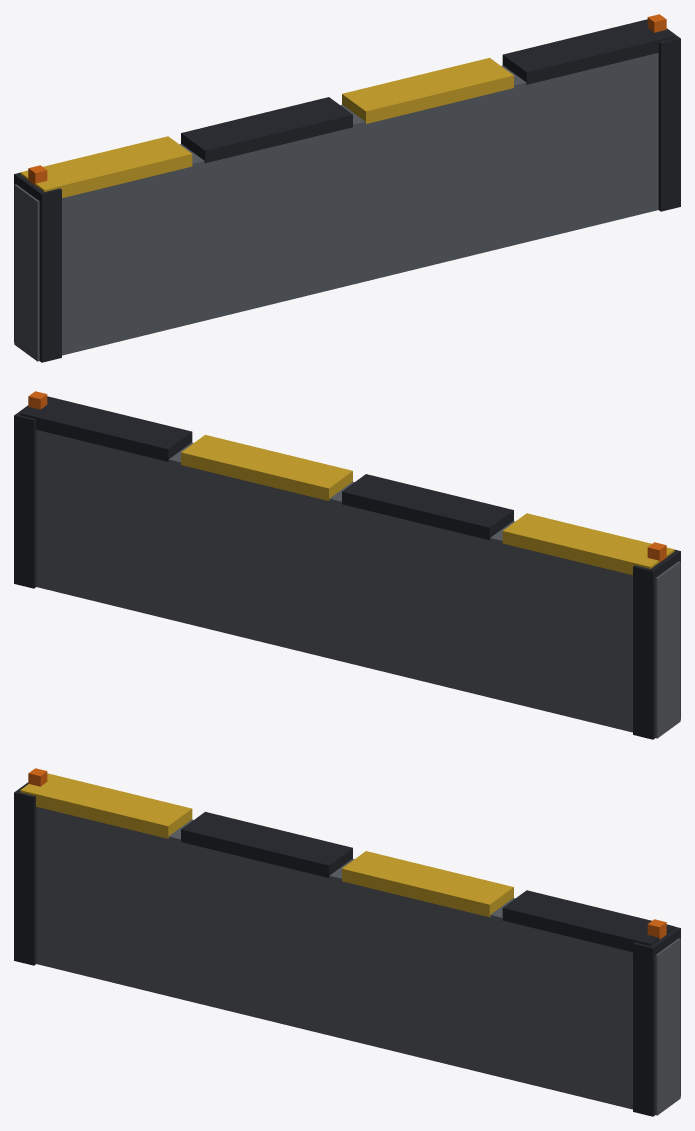
The model's file is mobile-low.glb.
3 views of the same model, one above another, from view 1: azimuth 30°, elevation 25°; view 2: azimuth 150°, elevation 25°; view 3: azimuth 330°, elevation 25° (orthographic).
Parts seen in each view (by area): view 1: portal-closure; view 2: portal-closure; view 3: portal-closure.
Part boxes in pixels (left/top/right/bottom): portal-closure: left=14, top=14, right=680, bottom=362; portal-closure: left=14, top=391, right=680, bottom=739; portal-closure: left=14, top=768, right=680, bottom=1116.
Size of the model in its own units: 16 by 4.3 by 1.2.
